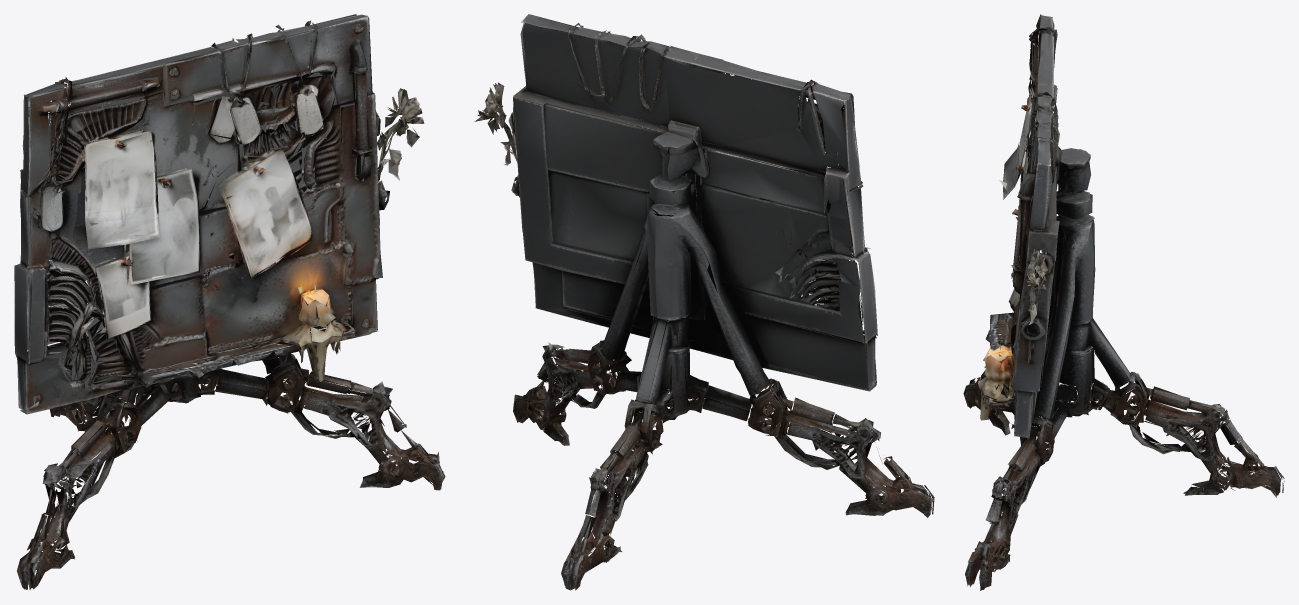
Rendered from life_memorial_board.glb.
3 views of the same model, side by side, from view 1: azimuth 30°, elevation 25°; view 2: azimuth 150°, elevation 25°; view 3: azimuth 270°, elevation 25° (orthographic). The views are drawn at different scales.
Parts seen in each view (by area): view 1: node_0; view 2: node_0; view 3: node_0.
Part boxes in pixels (x1,y1,x2,y2): node_0: (14,14,445,590); node_0: (474,14,934,590); node_0: (963,14,1284,590).
Bounding box in the file's own units: 0.7672 × 0.7776 × 0.541.
1 material, 1 textured.
